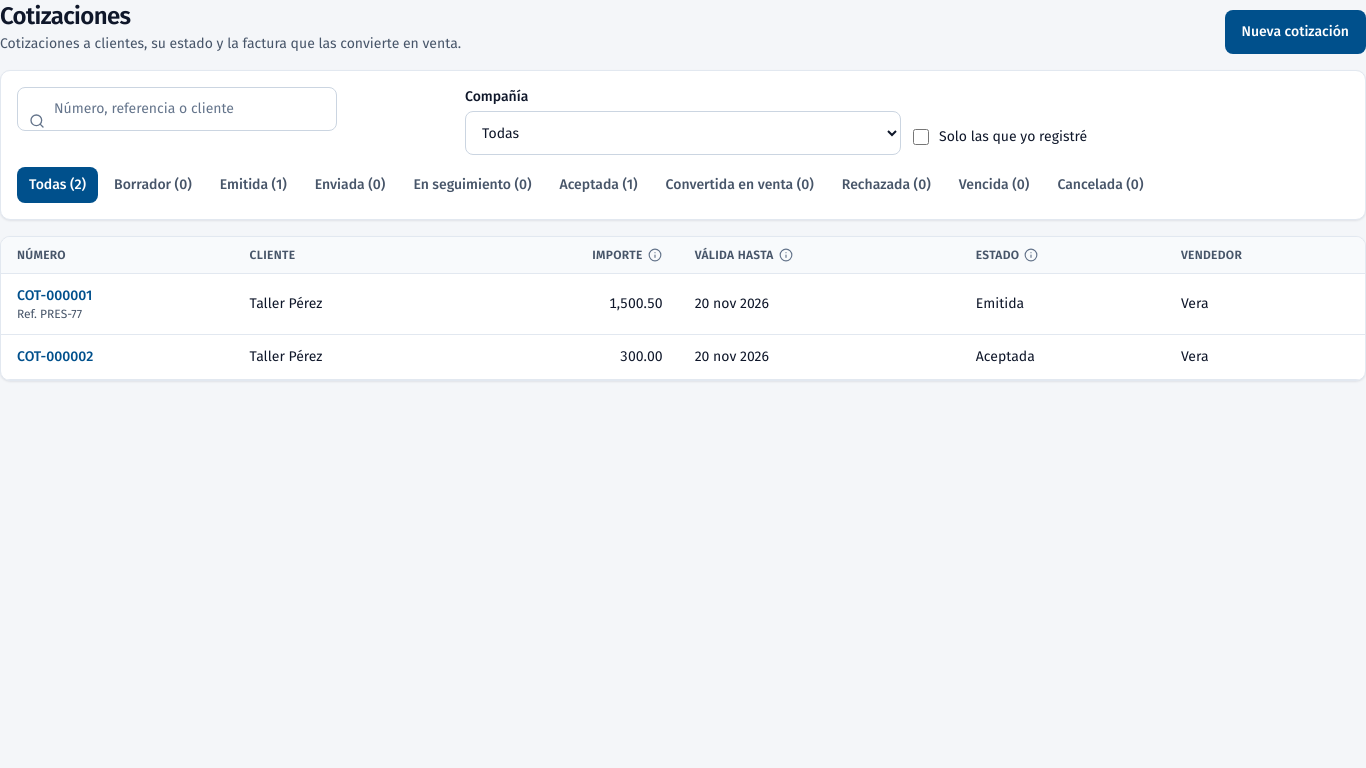
listado de cotizaciones › busca al cliente cuando no viene de la ficha
Click the button "Nueva cotización".
click(1295, 32)  # box [1224,10,1365,54]
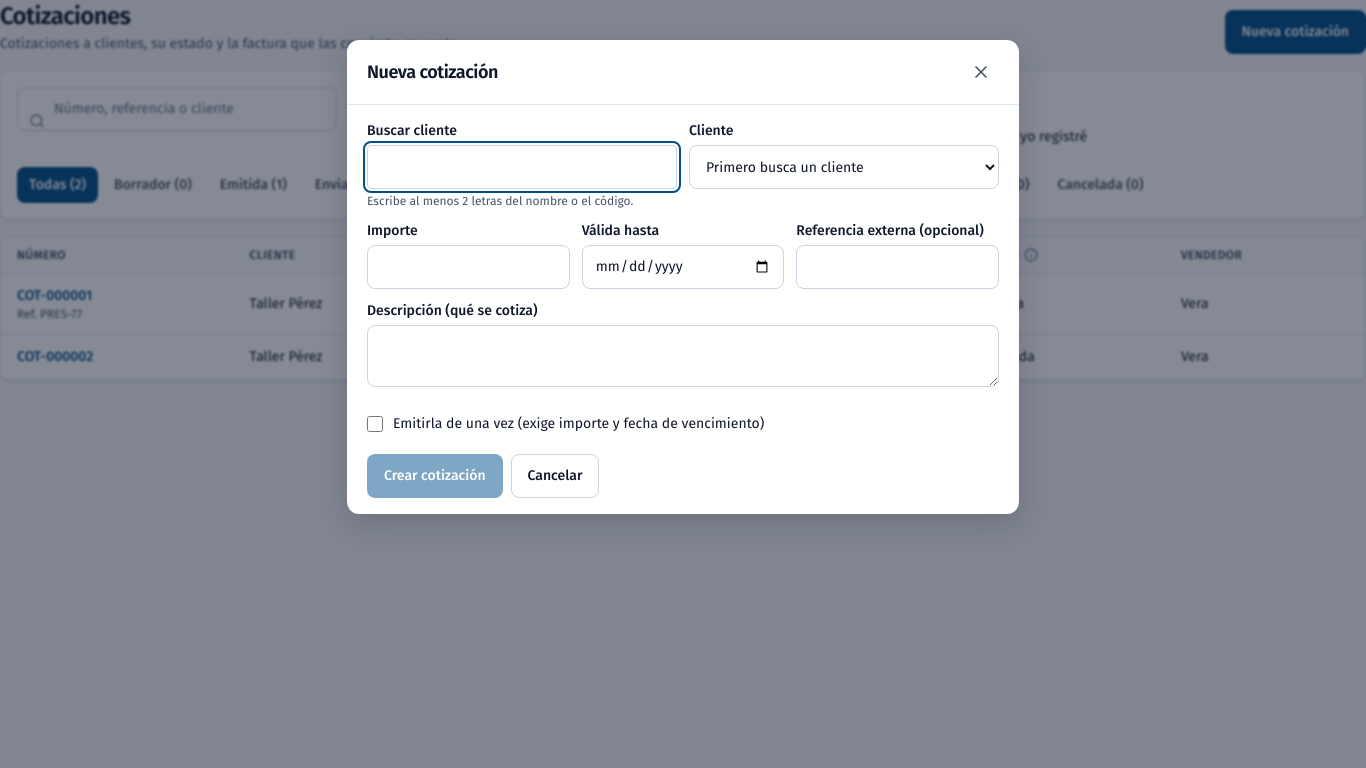
Result: the button "Crear cotización" is disabled at [367,454,502,498]
Type "fre" into the field labelled "Buscar cliente".
click(522, 167); type("fre")  # box [367,145,677,189]
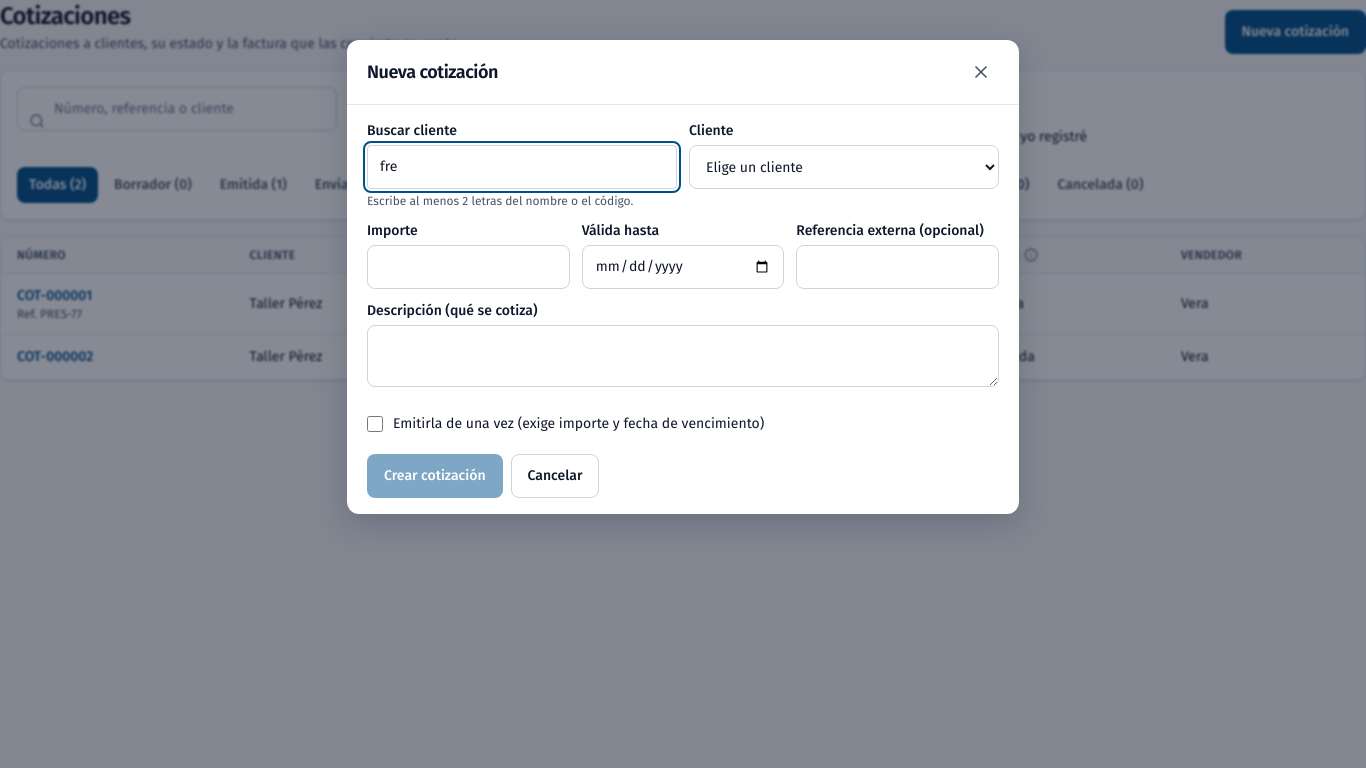
Select "Frenos Norte (C7)" in the dropdown labelled "Cliente" at [844, 167], box [689,145,999,189]
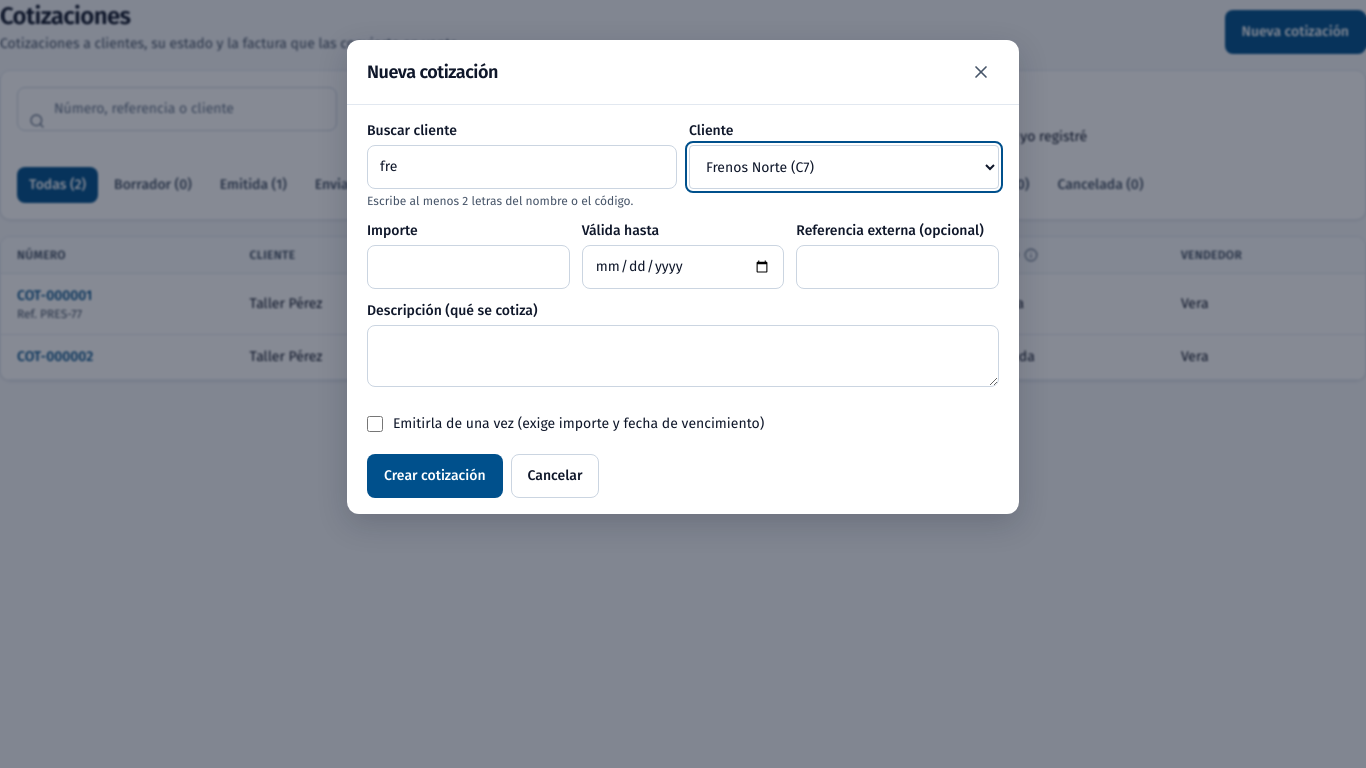
Result: the button "Crear cotización" is enabled at [367,454,502,498]
